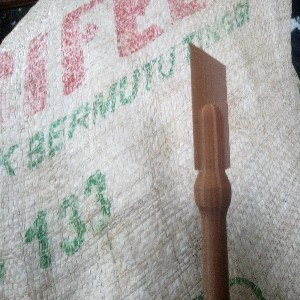cutter: (187, 40, 233, 299)
